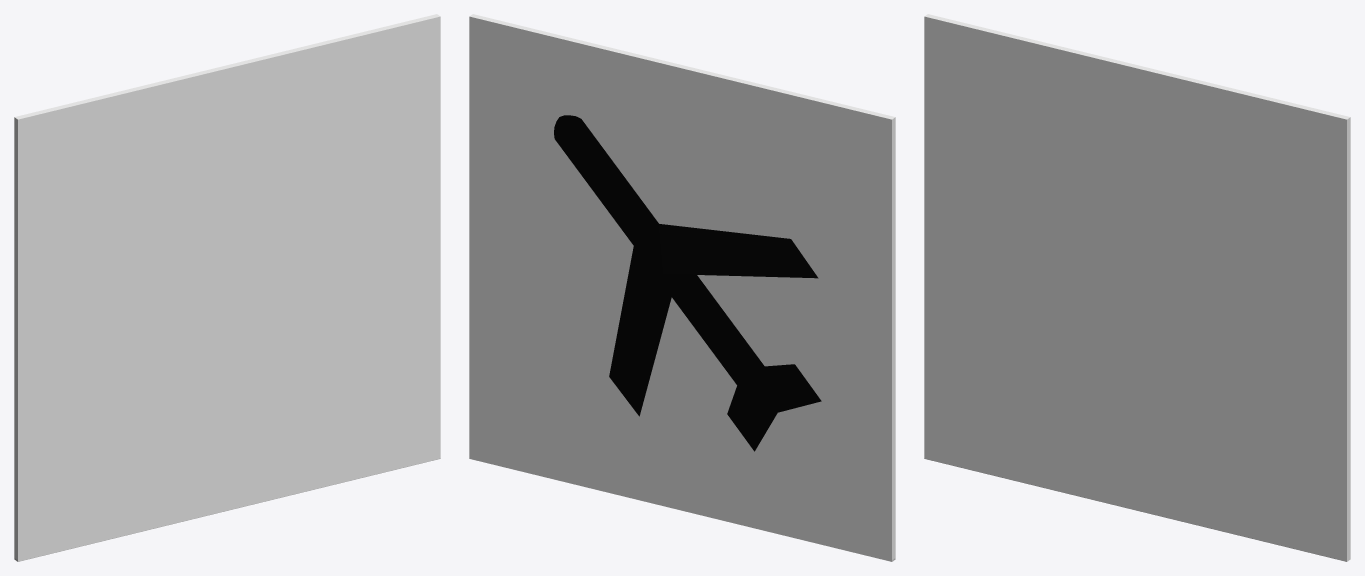
Rendered from airportOptimized.fbx.
3 views of the same model, side by side, from view 1: azimuth 30°, elevation 25°; view 2: azimuth 150°, elevation 25°; view 3: azimuth 330°, elevation 25° (orthographic).
Parts seen in each view (by area): view 1: Plane.001; view 2: Plane.001; view 3: Plane.001.
Part boxes in pixels (x1=…): Plane.001: x1=14, y1=14, x2=440, y2=561; Plane.001: x1=469, y1=14, x2=895, y2=561; Plane.001: x1=924, y1=14, x2=1350, y2=561.
Size of the model in its own units: 200 by 200 by 4.08.
1 material, 1 textured.
